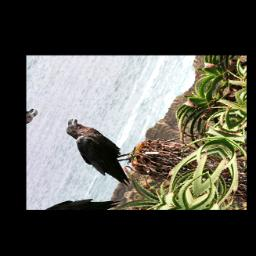Crow: (44, 114, 156, 188)
